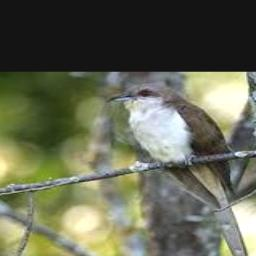Cuckoo: (105, 83, 250, 256)
